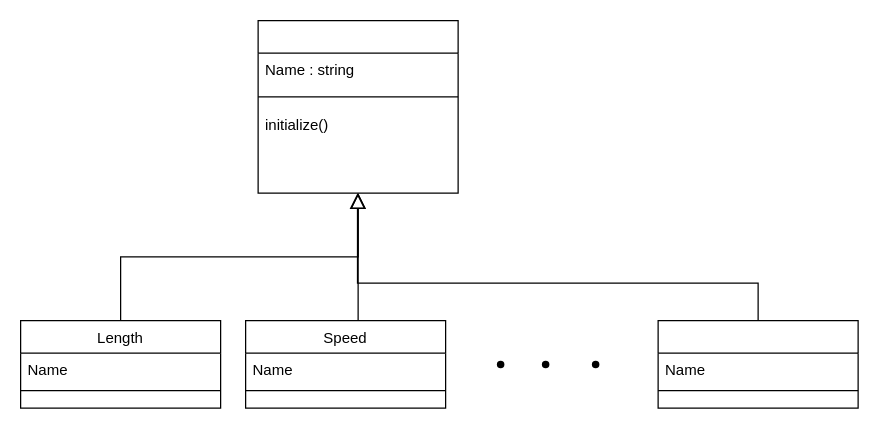
The diagram is 879 pixels wide and 429 high, and some of its shapes have lost their labels. The shapes that lost their labels are listed below. From the top down, each one's box as (x1, y1, x2, y2) in pixels, then its label:
(257, 19, 458, 193): Unit
(657, 319, 858, 408): Volume
